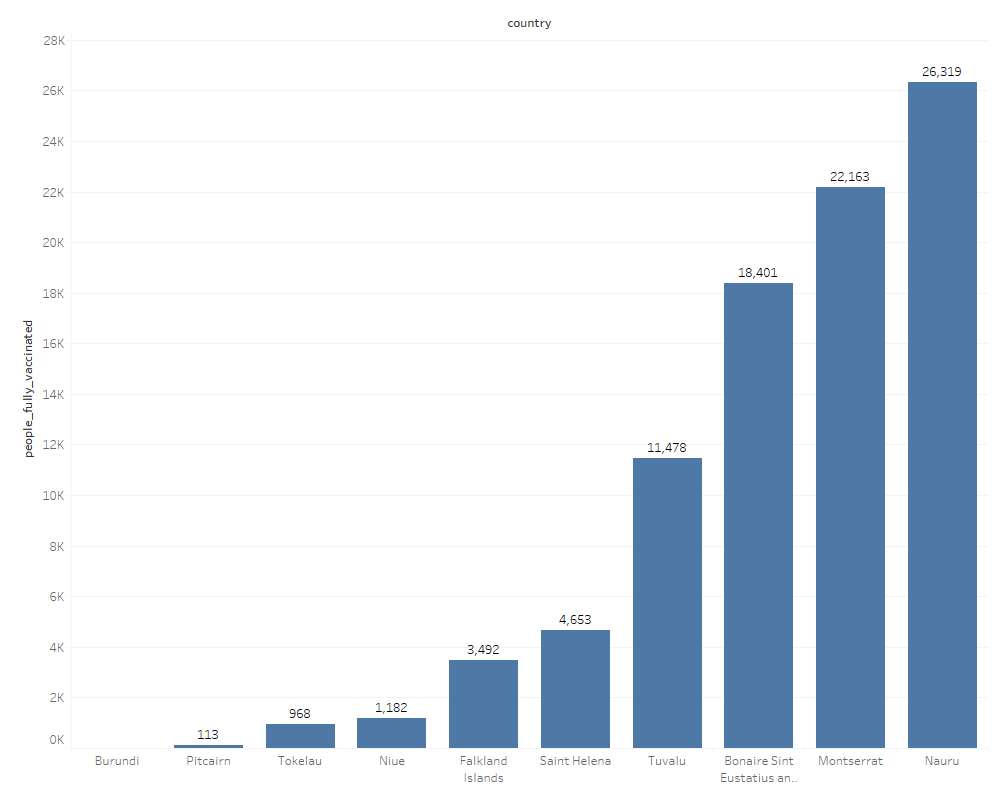

Layout of this report page (visuals, bound fields, positions):
{"tool":"tableau","page":{"name":"Dashboard 1","canvas":[1000,800],"ordinal":0},"visuals":[{"type":"worksheet","title":"Sheet 7","mark":"Automatic","rows":["country"],"cols":["people_fully_vaccinated"],"box":[8,8,984,784]}]}

Visuals, with their boxes in screenshot pixels (x1, y1, x2, y2), scaled from the page's 1000x800 canvas onto the 1000x800 screenshot:
"Sheet 7" worksheet: {"x1": 8, "y1": 8, "x2": 992, "y2": 792}
